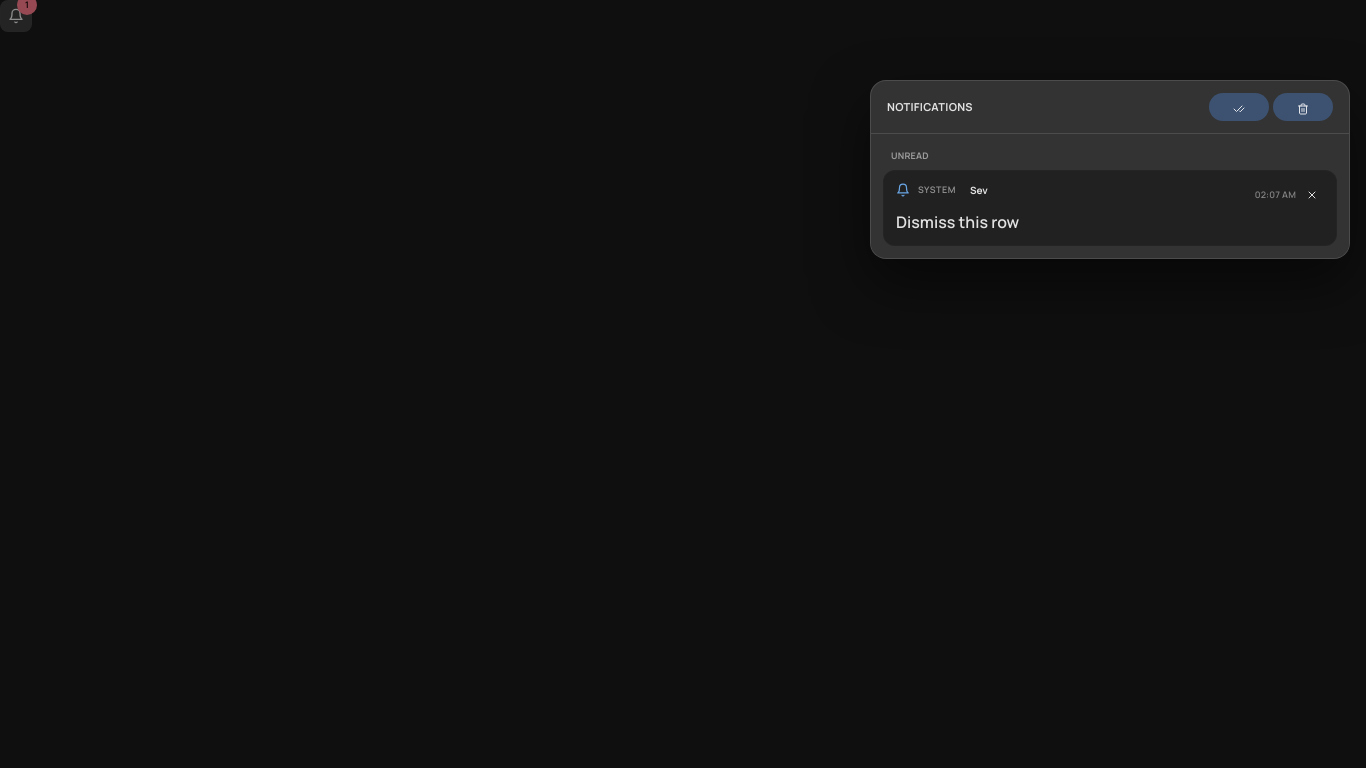
NotificationCenter › supports row-level dismiss from the inbox
Click the button named "dismiss notification": click(1312, 195) [1300,183,1324,207]
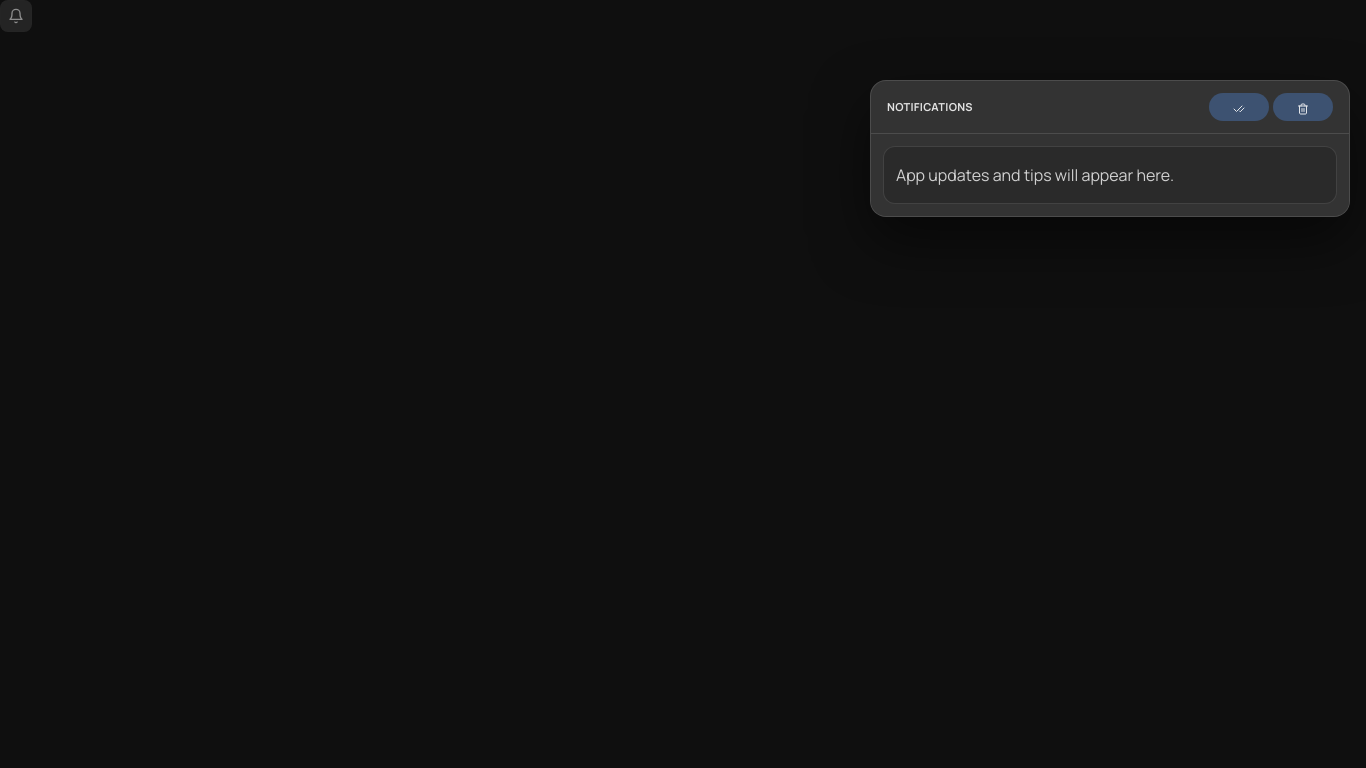
Result: the button "Dismiss this row" is gone
